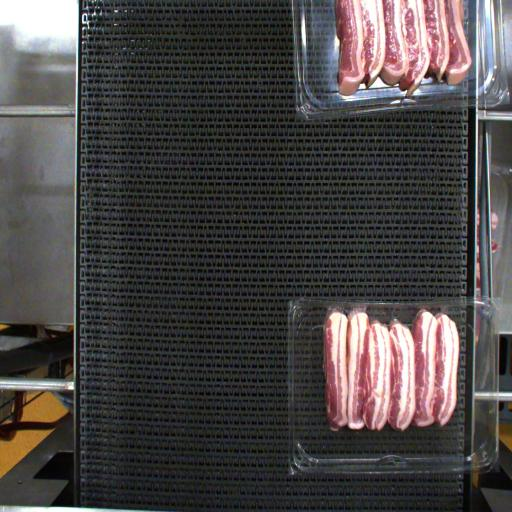packaging-error: (326, 292, 368, 319), (418, 298, 452, 328)
